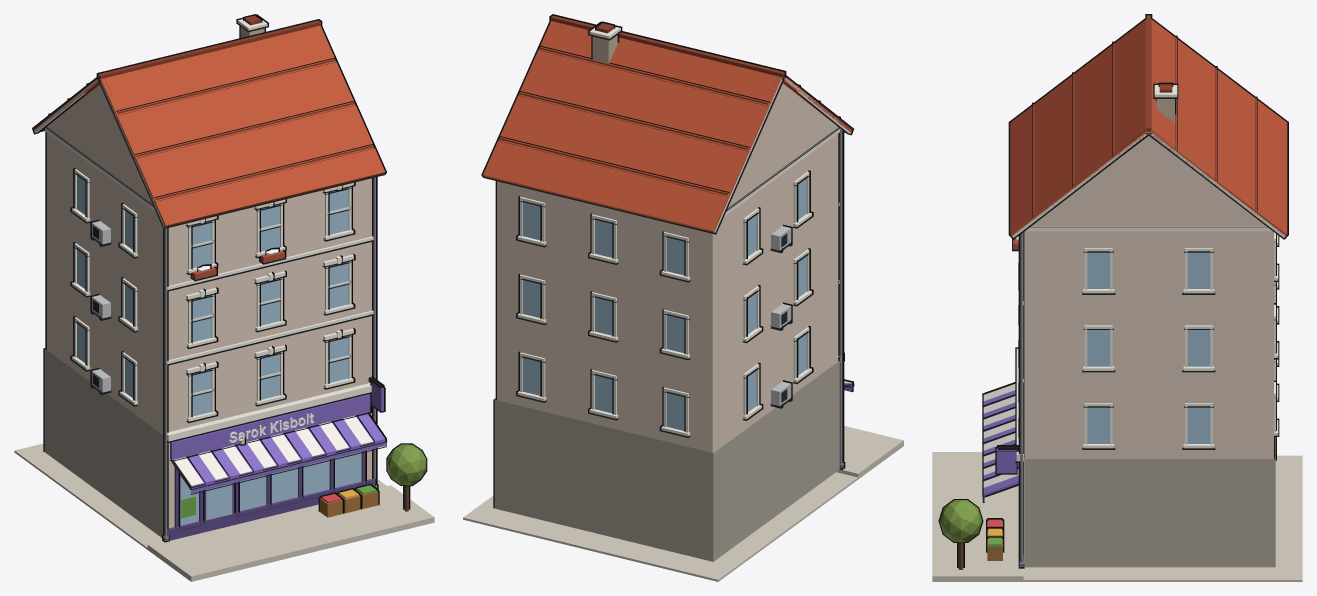
Rendered from Dukkan_sarok_kisbolt.fbx.
The picture shows the model from 3 angles, left to right: view 1: azimuth 30°, elevation 25°; view 2: azimuth 150°, elevation 25°; view 3: azimuth 270°, elevation 25°; orthographic projection. The views are drawn at different scales.
Visible parts, largest first — view 1: Dukkan_sarok_kisbolt; view 2: Dukkan_sarok_kisbolt; view 3: Dukkan_sarok_kisbolt.
Part boxes in pixels (x1,y1,x2,y2): Dukkan_sarok_kisbolt: (14, 14, 434, 581); Dukkan_sarok_kisbolt: (463, 14, 903, 581); Dukkan_sarok_kisbolt: (932, 14, 1302, 581).
Size of the model in its own units: 10.5 by 17.82 by 12.98.
